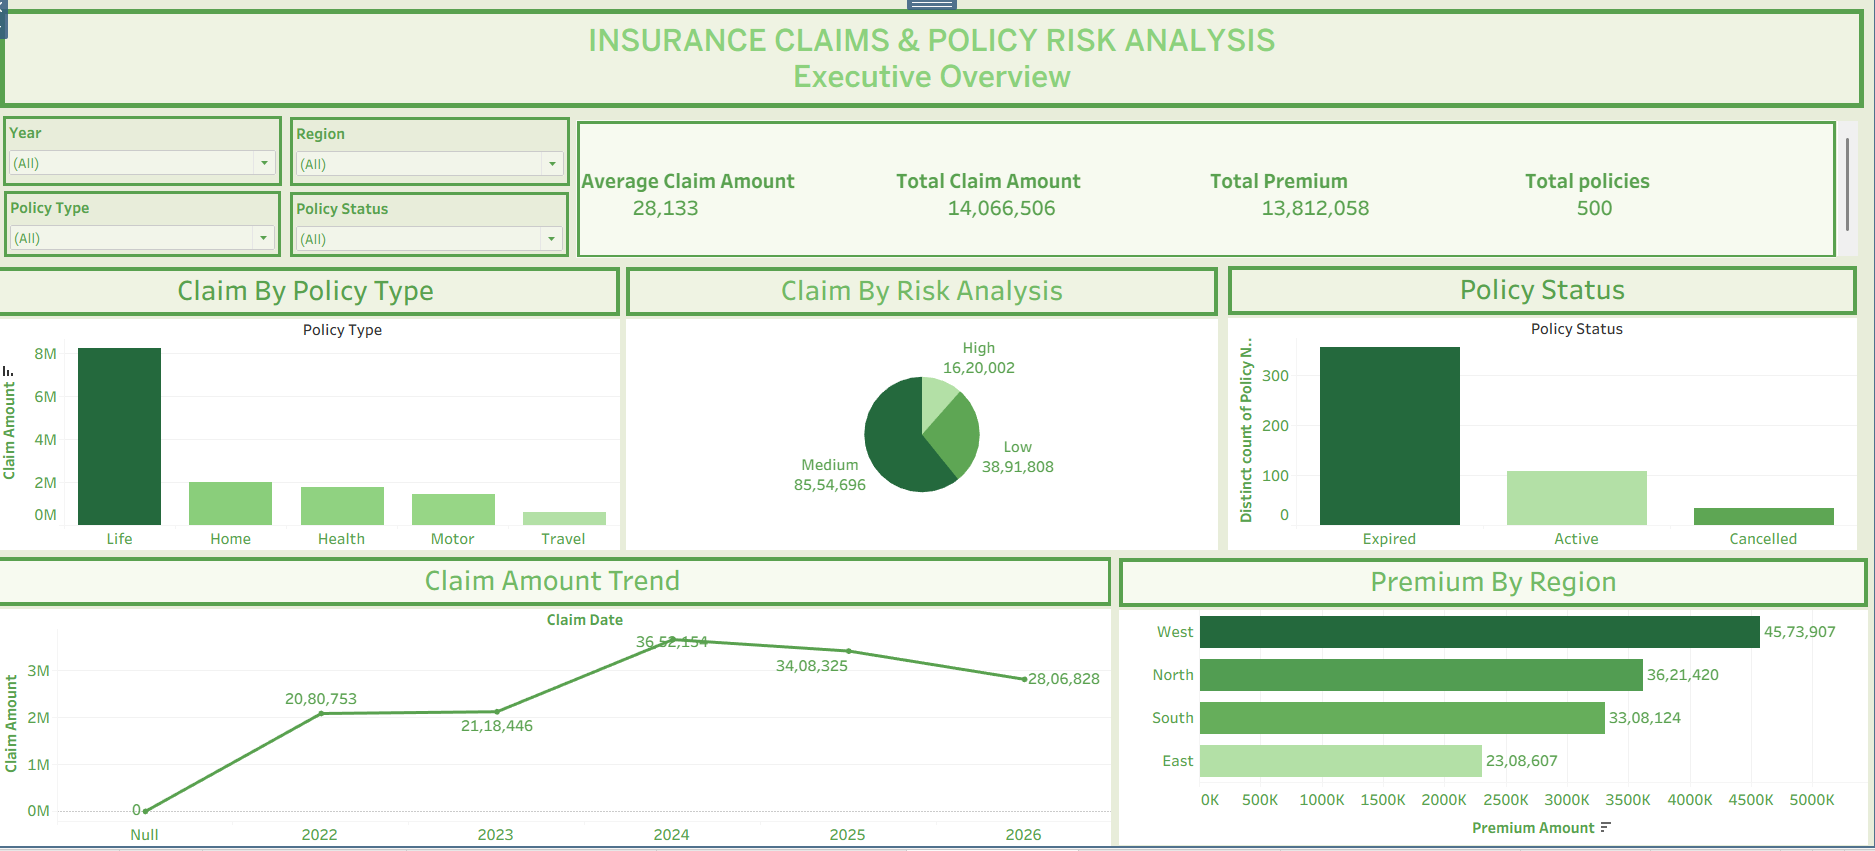

What the dashboard file says about the page in this screenshot:
{"tool":"tableau","page":{"name":"Executive Overview","canvas":[1000,1000],"units":"permille","ordinal":0},"visuals":[{"type":"title","box":[4.8,9.4,990.3,125.7]},{"type":"filter","title":"Claim Amount Trend ","param":"[federated.103em7t14guc9o1725shg11rdh6o].[yr:Claim Date:ok]","box":[7.9,139.8,147.9,82.3]},{"type":"filter","title":"Claim Amount Trend ","param":"[federated.103em7t14guc9o1725shg11rdh6o].[none:Region:nk]","box":[159.9,141,148.5,81.1]},{"type":"worksheet","title":"dashboard 1 kpi","mark":"Automatic","box":[311.4,144.5,678.9,162.2]},{"type":"filter","title":"Claim Amount Trend ","param":"[federated.103em7t14guc9o1725shg11rdh6o].[none:Policy Type:nk]","box":[8.4,228,146.7,77.6]},{"type":"filter","title":"Claim Amount Trend ","param":"[federated.103em7t14guc9o1725shg11rdh6o].[none:Policy Status:nk]","box":[159.9,229.1,147.9,76.4]},{"type":"worksheet","title":"Policy Status","mark":"Automatic","rows":["Policy Number"],"cols":["Policy Status"],"box":[656.6,316.1,333.1,333.7]},{"type":"worksheet","title":"Claim By Pilicy Type","mark":"Automatic","rows":["Claim Amount"],"cols":["Policy Type"],"box":[1.8,317.3,333.1,332.6]},{"type":"worksheet","title":"Claims By Risk Analysis","mark":"Pie","box":[338,317.3,313.8,332.6]},{"type":"worksheet","title":"Claim Amount Trend ","mark":"Line","rows":["Claim Amount"],"cols":["Claim Date"],"box":[2.4,658.1,592.6,339.6]},{"type":"worksheet","title":"Premium By Region","mark":"Automatic","rows":["Region"],"cols":["Premium Amount"],"box":[599.3,659.2,396.5,337.2]}]}

Visuals, with their boxes on the dashboard's canvas, which has no fixed pixel size, in thousandths of its width and height (x1, y1, x2, y2). These are canvas units, not pixel positions in the 1875x851 screenshot, which may show the page scaled, cropped or inside an application window:
title: [5,9,995,135]
"Claim Amount Trend " filter: [8,140,156,222]
"Claim Amount Trend " filter: [160,141,308,222]
"dashboard 1 kpi" worksheet: [311,144,990,307]
"Claim Amount Trend " filter: [8,228,155,306]
"Claim Amount Trend " filter: [160,229,308,306]
"Policy Status" worksheet: [657,316,990,650]
"Claim By Pilicy Type" worksheet: [2,317,335,650]
"Claims By Risk Analysis" worksheet (Pie marks): [338,317,652,650]
"Claim Amount Trend " worksheet (Line marks): [2,658,595,998]
"Premium By Region" worksheet: [599,659,996,996]
